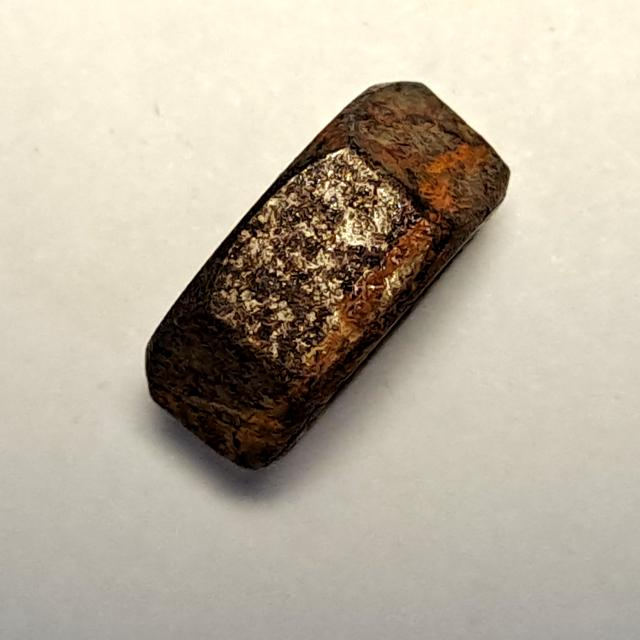Side_Rust: (123, 70, 533, 488)
